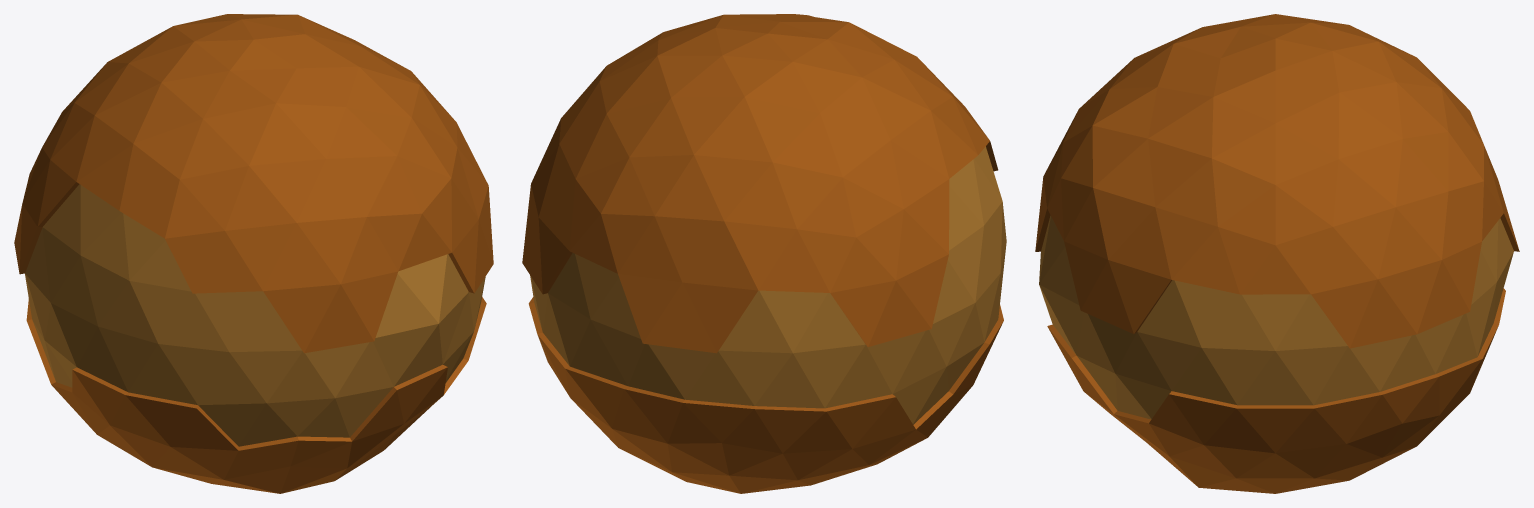
The model's file is venus.glb.
3 views of the same model, side by side, from view 1: azimuth 30°, elevation 25°; view 2: azimuth 150°, elevation 25°; view 3: azimuth 270°, elevation 25° (orthographic). The views are drawn at different scales.
Parts seen in each view (by area): view 1: Icosphere; view 2: Icosphere; view 3: Icosphere.
Boxes of the visible parts, <box> form: Icosphere: <box>14,14,493,493</box>; Icosphere: <box>522,14,1006,493</box>; Icosphere: <box>1035,14,1519,493</box>.
Bounding box in the file's own units: 1.18 × 1.18 × 1.22.
